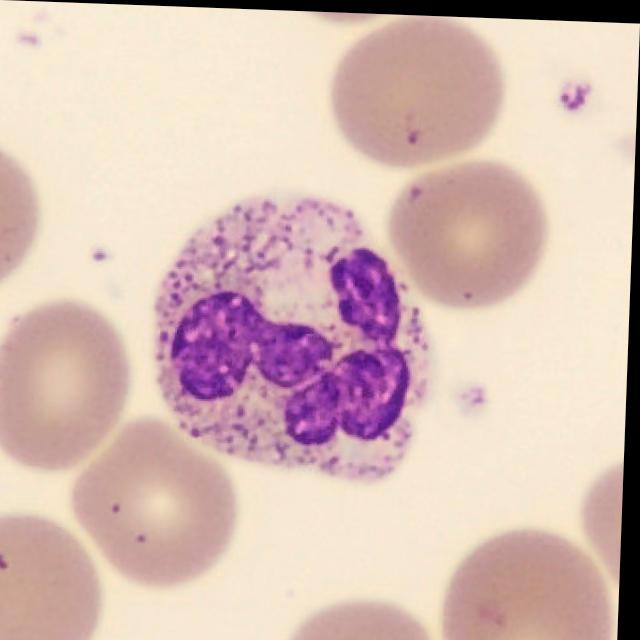Neutrofilo segmentado: (156, 188, 433, 481)
